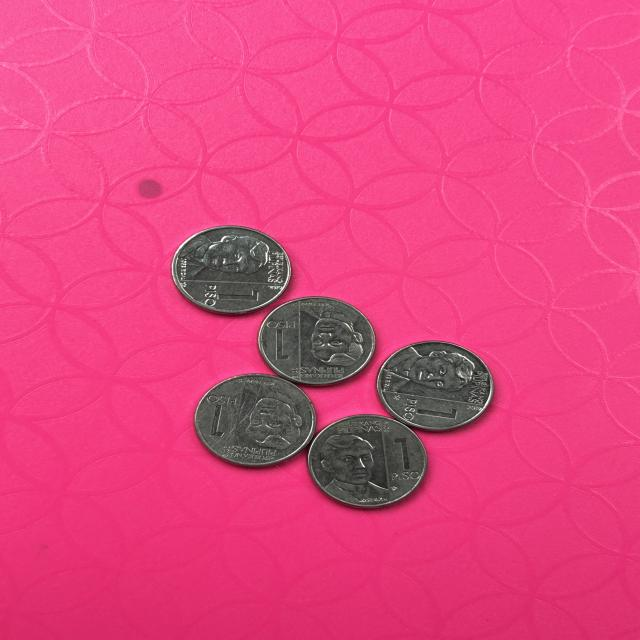1_New_Front: (202, 278, 272, 310), (385, 434, 421, 492), (404, 391, 460, 428), (201, 391, 234, 453), (263, 319, 299, 366)
